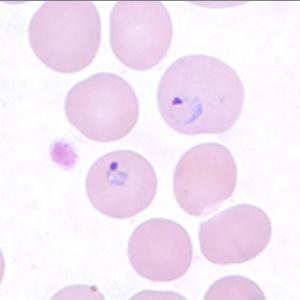Infected: (158, 53, 242, 136), (85, 147, 158, 217)
Uninfected: (27, 0, 101, 74), (65, 72, 140, 142), (198, 203, 273, 267), (172, 143, 235, 219), (110, 0, 175, 70), (126, 216, 192, 283)
